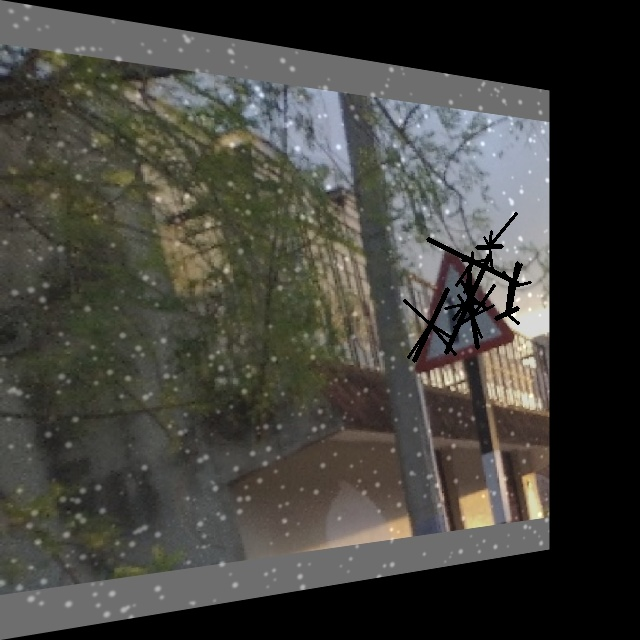Side_Road_Right: (411, 239, 520, 375)
